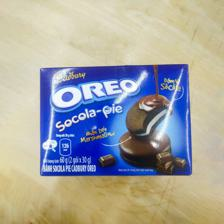Oreo: (36, 64, 193, 177)
